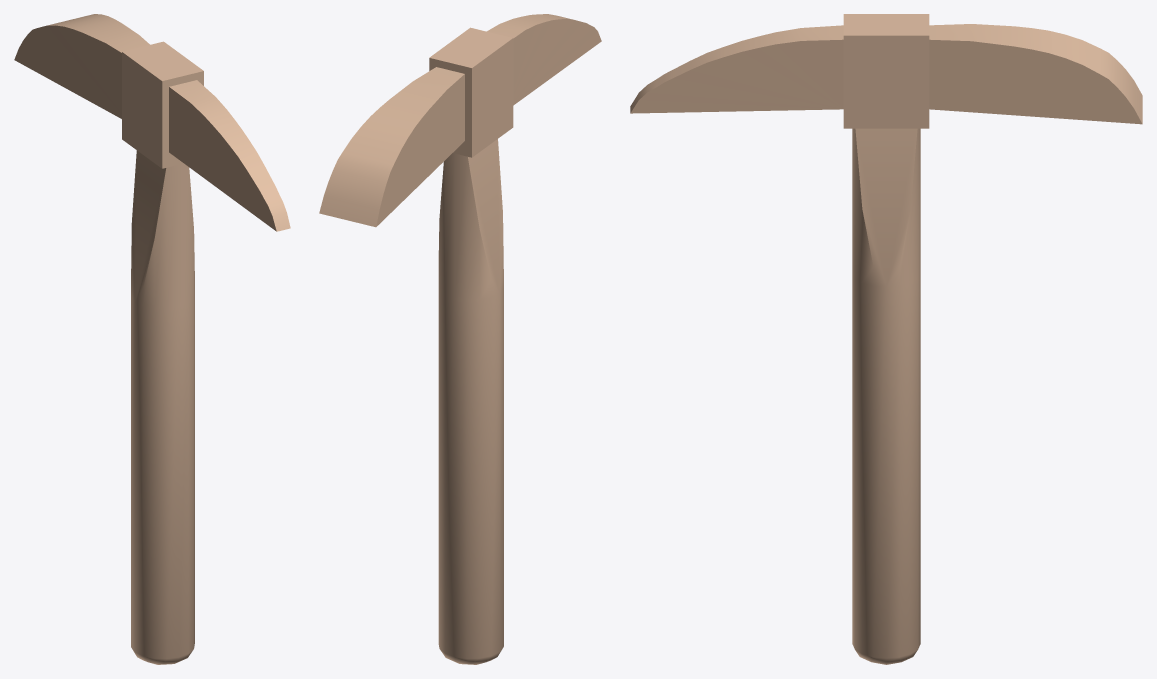
Rendered from pickaxe.dae.
The picture shows the model from 3 angles, left to right: view 1: azimuth 30°, elevation 25°; view 2: azimuth 150°, elevation 25°; view 3: azimuth 270°, elevation 25°; orthographic projection. The views are drawn at different scales.
Parts seen in each view (by area): view 1: Object; view 2: Object; view 3: Object.
Boxes of the visible parts, x1,y1,x2,y2 form: Object: (14, 14, 290, 664); Object: (319, 14, 601, 664); Object: (630, 14, 1142, 664).
Bounding box in the file's own units: 0.0032 × 0.024 × 0.0328.
